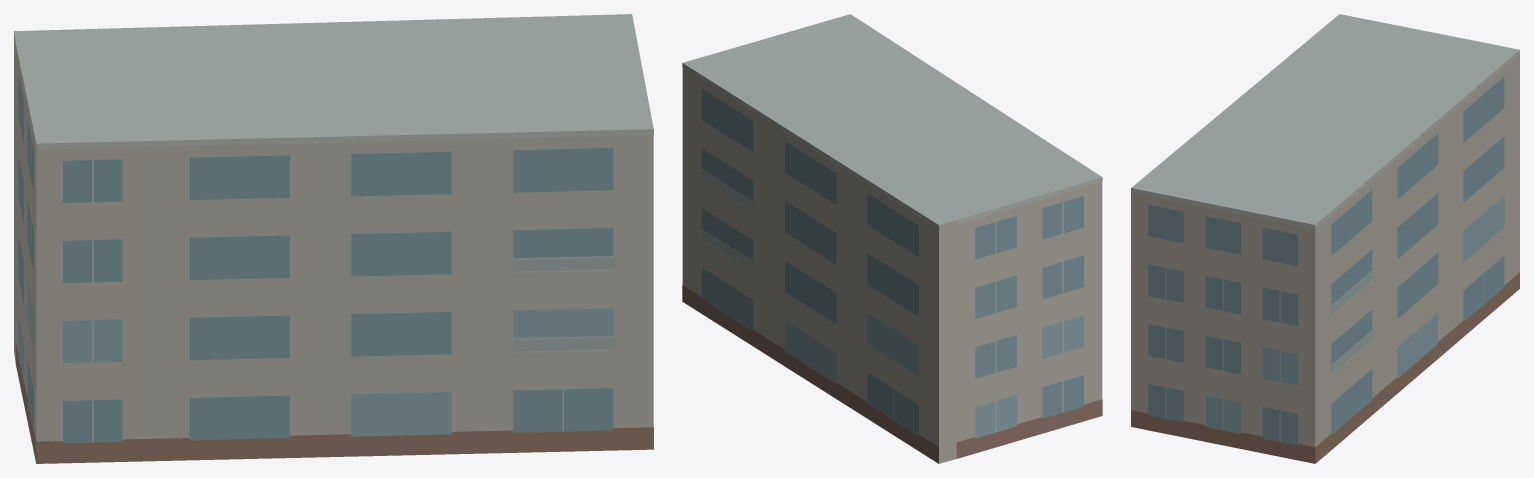
Rendered from survey-upis-32629934.glb.
3 renders of one model, left to right at view 1: azimuth 30°, elevation 25°; view 2: azimuth 150°, elevation 25°; view 3: azimuth 270°, elevation 25°, orthographic. The views are drawn at different scales.
Parts seen in each view (by area): view 1: survey-upis-32629934.tmp; view 2: survey-upis-32629934.tmp; view 3: survey-upis-32629934.tmp.
Part boxes in pixels (box(x1,y1,x2,y2)): survey-upis-32629934.tmp: box(14, 14, 653, 463); survey-upis-32629934.tmp: box(682, 14, 1102, 463); survey-upis-32629934.tmp: box(1131, 14, 1519, 463).
Bounding box in the file's own units: 24.25 × 12.8 × 18.88.
